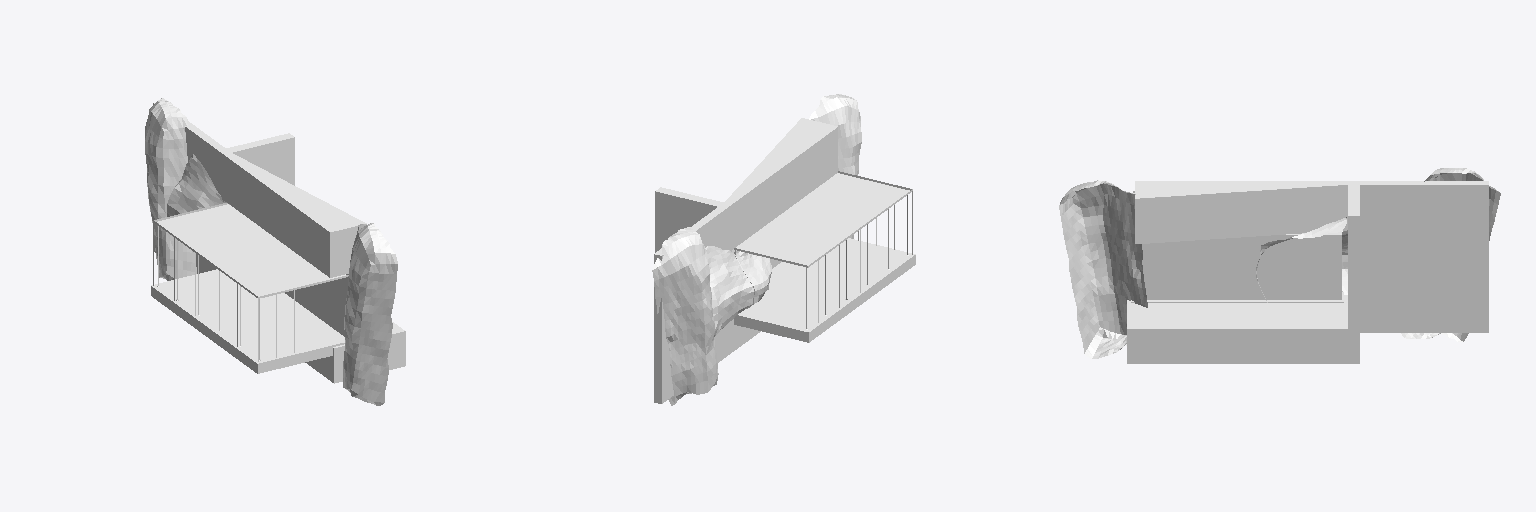
Rendered from flexo_house-01 - Copy.obj.
3 renders of one model, left to right at view 1: azimuth 30°, elevation 25°; view 2: azimuth 150°, elevation 25°; view 3: azimuth 270°, elevation 25°, orthographic.
Visible parts, largest first — view 1: flexo_house-01.obj; view 2: flexo_house-01.obj; view 3: flexo_house-01.obj.
Boxes of the visible parts, box(x1,y1,x2,y2) form: flexo_house-01.obj: box(145, 98, 405, 405); flexo_house-01.obj: box(652, 94, 915, 405); flexo_house-01.obj: box(1059, 168, 1500, 363).
Bounding box in the file's own units: 7.39 × 8.55 × 19.34.